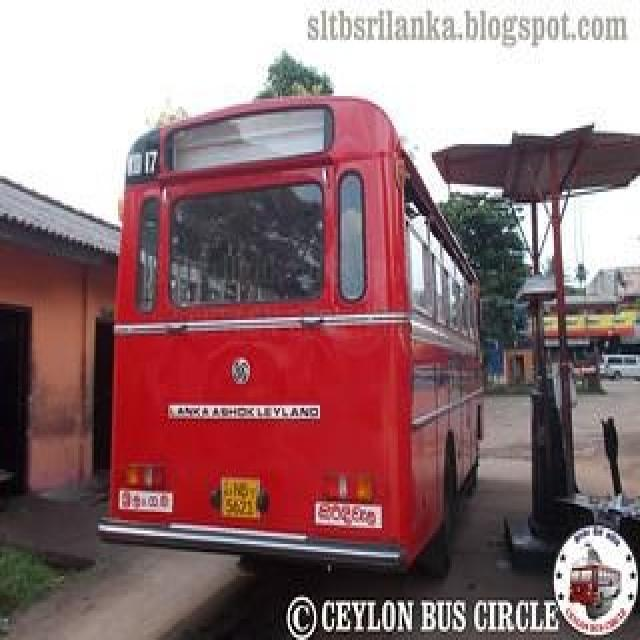Bus: (95, 98, 484, 559)
